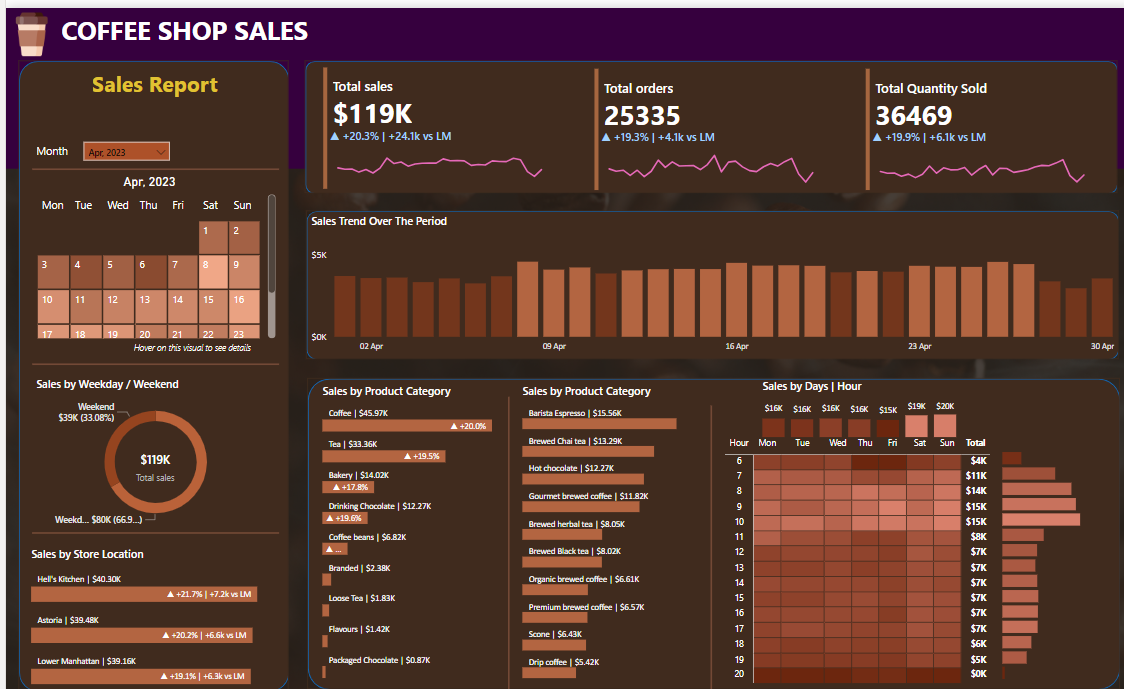

What the dashboard file says about the page in this screenshot:
{"tool":"powerbi","page":{"name":"Page 1","canvas":[1400,850],"ordinal":0},"visuals":[{"type":"shape","box":[0,0,1399,200],"z":0},{"type":"shape","box":[15.7,65.5,336,784.5],"z":1000},{"type":"shape","box":[371.6,65.5,1010.9,165.2],"z":2000},{"type":"textbox","box":[64.1,0,346,54.1],"z":3000},{"type":"cardVisual","fields":{"Data":["Transactions.Total sales"]},"box":[379.3,69.3,300.4,159.5],"z":4000,"group":"g1"},{"type":"cardVisual","fields":{"Data":["Transactions.Total orders"]},"box":[716.9,71.2,300.4,159.5],"z":4000,"group":"g2"},{"type":"cardVisual","fields":{"Data":["Transactions.Total Quantity Sold"]},"box":[1055,71.2,300.4,159.5],"z":4000,"group":"g3"},{"type":"slicer","fields":{"Values":["Date Table.Month Year"]},"box":[92.5,162.3,116.8,37],"z":4000},{"type":"group","id":"g1","title":"Group 1","box":[379.3,69.3,302.7,159.5],"z":5000},{"type":"group","id":"g2","title":"Group 1","box":[716.9,71.2,303.3,159.5],"z":6000},{"type":"lineChart","fields":{"Y":["Transactions.Total sales"],"Category":["Date Table.Date Hierarchy.Date"]},"box":[398.6,148.1,283.3,79.7],"z":6000,"group":"g1"},{"type":"lineChart","fields":{"Category":["Date Table.Date Hierarchy.Date"],"Y":["Transactions.Total orders"]},"box":[736.2,150,283.3,79.7],"z":6000,"group":"g2"},{"type":"lineChart","fields":{"Category":["Date Table.Date Hierarchy.Date"],"Y":["Transactions.Total Quantity Sold"]},"box":[1074.3,150,283.3,79.7],"z":6000,"group":"g3"},{"type":"group","id":"g3","title":"Group 1","box":[1055,71.2,303.3,159.5],"z":7000},{"type":"pivotTable","fields":{"Columns":["Date Table.Day Name"],"Rows":["Date Table.Week Number"],"Values":["Min(Date Table.Day Number)"]},"box":[15.7,227.8,324.6,189.4],"z":8000},{"type":"card","fields":{"Values":["Min(Date Table.Month Year)"]},"box":[125.3,199.3,105.4,35.6],"z":9000},{"type":"card","fields":{"Values":["Transactions.Foot Note"]},"box":[123.9,408.6,215,34.2],"z":10000},{"type":"shape","box":[32.7,425.7,307.5,34.2],"z":11000},{"type":"shape","box":[32.7,183.7,307.5,34.2],"z":12000},{"type":"donutChart","title":"Sales by Weekday / Weekend","fields":{"Category":["Date Table.Weekday / Weekend"],"Y":["Transactions.Total sales"]},"box":[32.7,458.5,307.5,195.1],"z":13000},{"type":"card","fields":{"Values":["Transactions.Total sales"]},"box":[142.4,528.2,85.4,84],"z":14000},{"type":"shape","box":[32.7,636.4,307.5,34.2],"z":15000},{"type":"clusteredBarChart","title":"Sales by Store Location","fields":{"Category":["Transactions.store_location"],"Y":["Transactions.Placeholder","Transactions.Total sales"]},"box":[26.4,670.4,318.9,178.9],"z":16000},{"type":"shape","box":[373,252,1010.9,185],"z":17000},{"type":"shape","box":[374.5,459.9,1010.9,387.3],"z":18000},{"type":"columnChart","title":"Sales Trend Over The Period","fields":{"Category":["Transactions.transaction_date"],"Y":["Transactions.Total sales"]},"box":[374.5,254.9,1009.5,182.2],"z":19000},{"type":"clusteredBarChart","title":"Sales by Product Category","fields":{"Y":["Transactions.Placeholder","Transactions.Total sales"],"Category":["Transactions.product_category"]},"box":[388.7,467,249.2,373],"z":20000},{"type":"shape","box":[865.7,494.1,25.6,355.9],"z":21000},{"type":"clusteredBarChart","title":"Sales by Product Category","fields":{"Y":["Transactions.Placeholder","Transactions.Total sales"],"Category":["Transactions.product_type"]},"box":[637.9,467,229.2,373],"z":22000},{"type":"shape","box":[612.2,484.1,25.6,365.9],"z":23000},{"type":"pivotTable","fields":{"Rows":["Transactions.Hour"],"Columns":["Date Table.Day Name"],"Values":["Transactions.Total sales"]},"box":[889.9,528.2,344.6,321.8],"z":24000},{"type":"barChart","fields":{"Category":["Transactions.Hour"],"Y":["Transactions.Total sales"]},"box":[1234.4,539.6,135.3,300.4],"z":25000},{"type":"columnChart","title":"Sales by Days | Hour","fields":{"Y":["Transactions.Total sales"],"Category":["Date Table.Day Name"]},"box":[936.9,459.9,252,79.7],"z":26000},{"type":"textbox","box":[32.9,162.9,72.9,37.1],"z":27000},{"type":"textbox","box":[92.9,65.7,234.3,68.6],"z":28000},{"type":"image","box":[0,0,64.3,65.7],"z":29000}]}

Visuals, with their boxes in screenshot pixels (x1, y1, x2, y2), scaled from the page's 1400x850 canvas onto the 1124x689 screenshot:
shape: 0,0,1123,162
shape: 13,53,282,688
shape: 298,53,1110,187
textbox: 51,0,329,44
cardVisual - Transactions.Total sales: 305,56,546,185
cardVisual - Transactions.Total orders: 576,58,817,187
cardVisual - Transactions.Total Quantity Sold: 847,58,1088,187
slicer - Date Table.Month Year: 74,132,168,162
"Group 1" group: 305,56,548,185
"Group 1" group: 576,58,819,187
lineChart - Transactions.Total sales x Date Table.Date Hierarchy.Date: 320,120,547,185
lineChart - Date Table.Date Hierarchy.Date x Transactions.Total orders: 591,122,819,186
lineChart - Date Table.Date Hierarchy.Date x Transactions.Total Quantity Sold: 863,122,1090,186
"Group 1" group: 847,58,1091,187
pivotTable - Date Table.Day Name x Date Table.Week Number: 13,185,273,338
card - Min(Date Table.Month Year): 101,162,185,190
card - Transactions.Foot Note: 99,331,272,359
shape: 26,345,273,373
shape: 26,149,273,177
"Sales by Weekday / Weekend" donutChart: 26,372,273,530
card - Transactions.Total sales: 114,428,183,496
shape: 26,516,273,544
"Sales by Store Location" clusteredBarChart: 21,543,277,688
shape: 299,204,1111,354
shape: 301,373,1112,687
"Sales Trend Over The Period" columnChart: 301,207,1111,354
"Sales by Product Category" clusteredBarChart: 312,379,512,681
shape: 695,401,716,688
"Sales by Product Category" clusteredBarChart: 512,379,696,681
shape: 492,392,512,688
pivotTable - Transactions.Hour x Date Table.Day Name: 714,428,991,688
barChart - Transactions.Hour x Transactions.Total sales: 991,437,1100,681
"Sales by Days | Hour" columnChart: 752,373,955,437
textbox: 26,132,85,162
textbox: 75,53,263,109
image: 0,0,52,53
